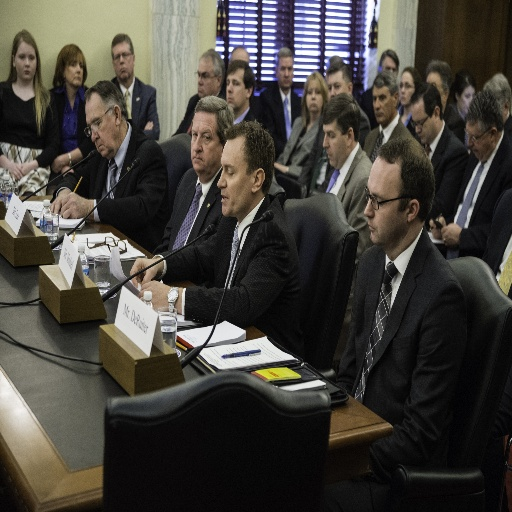hand: (137, 280, 171, 312), (129, 256, 159, 287), (58, 189, 87, 217), (440, 220, 461, 248), (49, 189, 72, 214), (430, 216, 446, 236), (8, 162, 22, 181), (51, 155, 62, 174), (19, 161, 31, 174), (274, 160, 286, 172), (61, 165, 74, 176), (144, 120, 154, 131)
